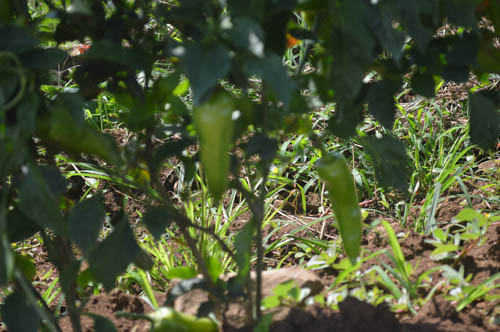ChiliPepper: (314, 155, 369, 268), (185, 98, 242, 205), (50, 113, 124, 169)
